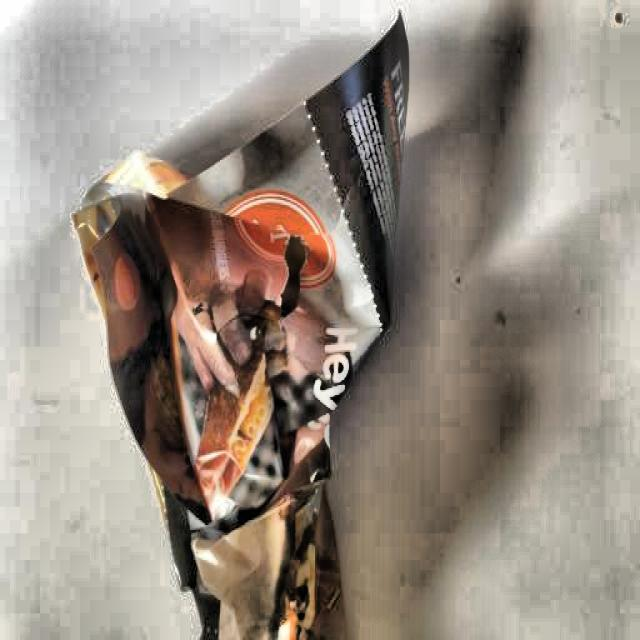paper: (72, 14, 418, 640)
